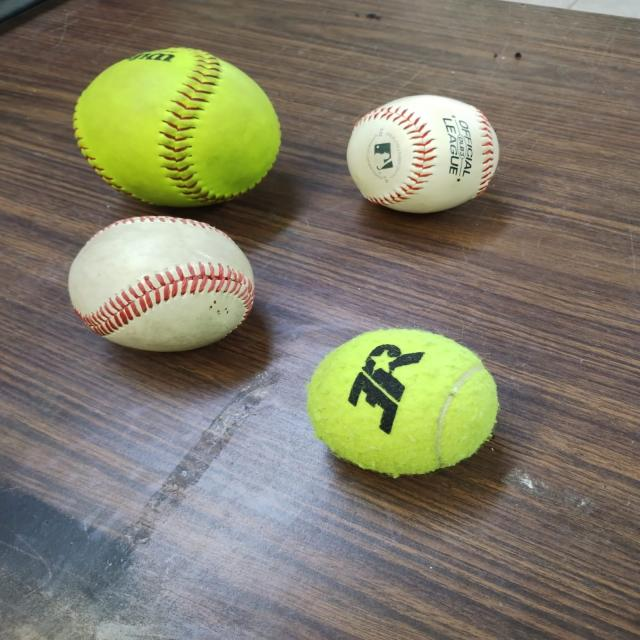beisbol ball: (67, 217, 256, 348), (346, 95, 502, 212)
softball ball: (72, 48, 282, 207)
tenis ball: (303, 330, 501, 478)
